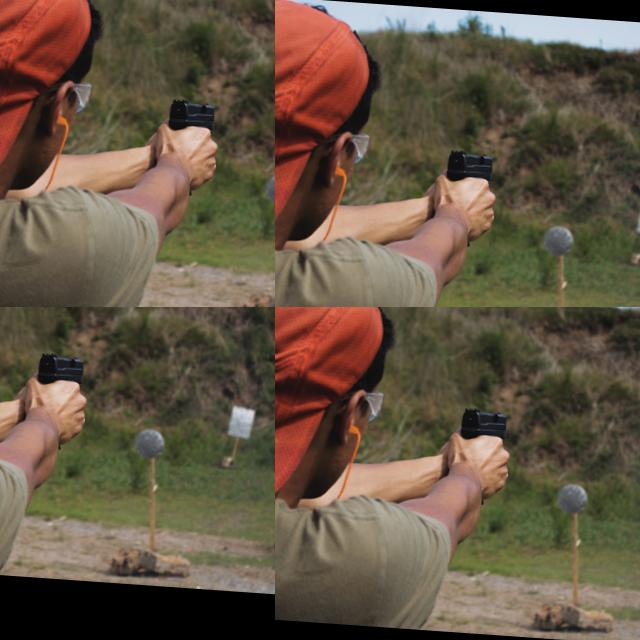handgun: (275, 63, 583, 307), (205, 348, 275, 578), (457, 403, 511, 442), (0, 22, 37, 70)
